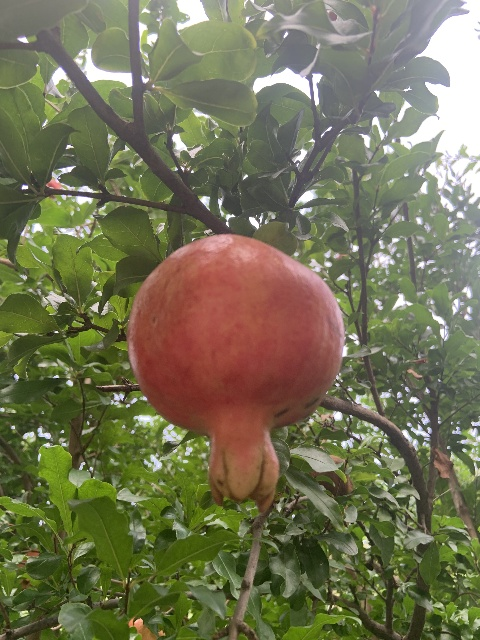ripe: (127, 234, 344, 513)
